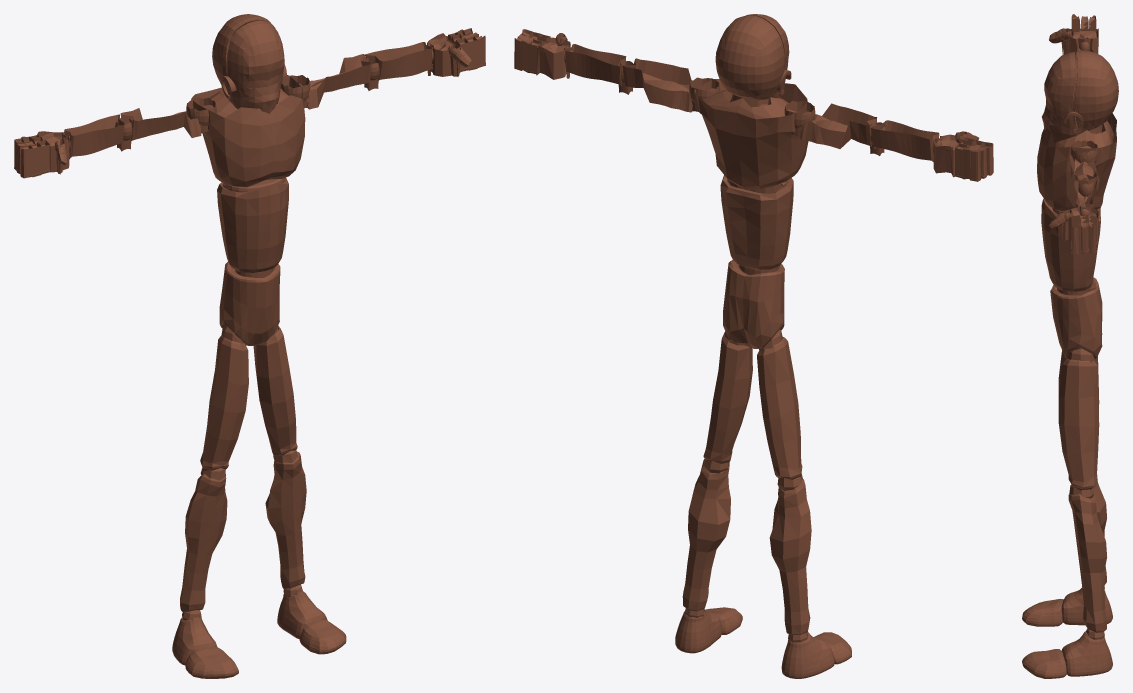
3 renders of one model, left to right at view 1: azimuth 30°, elevation 25°; view 2: azimuth 150°, elevation 25°; view 3: azimuth 270°, elevation 25°, orthographic. The views are drawn at different scales.
Parts seen in each view (by area): view 1: base_mannequin.glb, base_mannequin.glb_2; view 2: base_mannequin.glb, base_mannequin.glb_2; view 3: base_mannequin.glb, base_mannequin.glb_2.
Part boxes in pixels (<box>): base_mannequin.glb: <box>14,14,485,678</box>; base_mannequin.glb_2: <box>62,46,433,619</box>; base_mannequin.glb: <box>514,14,993,678</box>; base_mannequin.glb_2: <box>564,48,942,642</box>; base_mannequin.glb: <box>1022,14,1118,678</box>; base_mannequin.glb_2: <box>1052,42,1104,639</box>.
Size of the model in its own units: 1.65 by 2.13 by 0.3162.
Materials: 3 (3 with a texture image).
